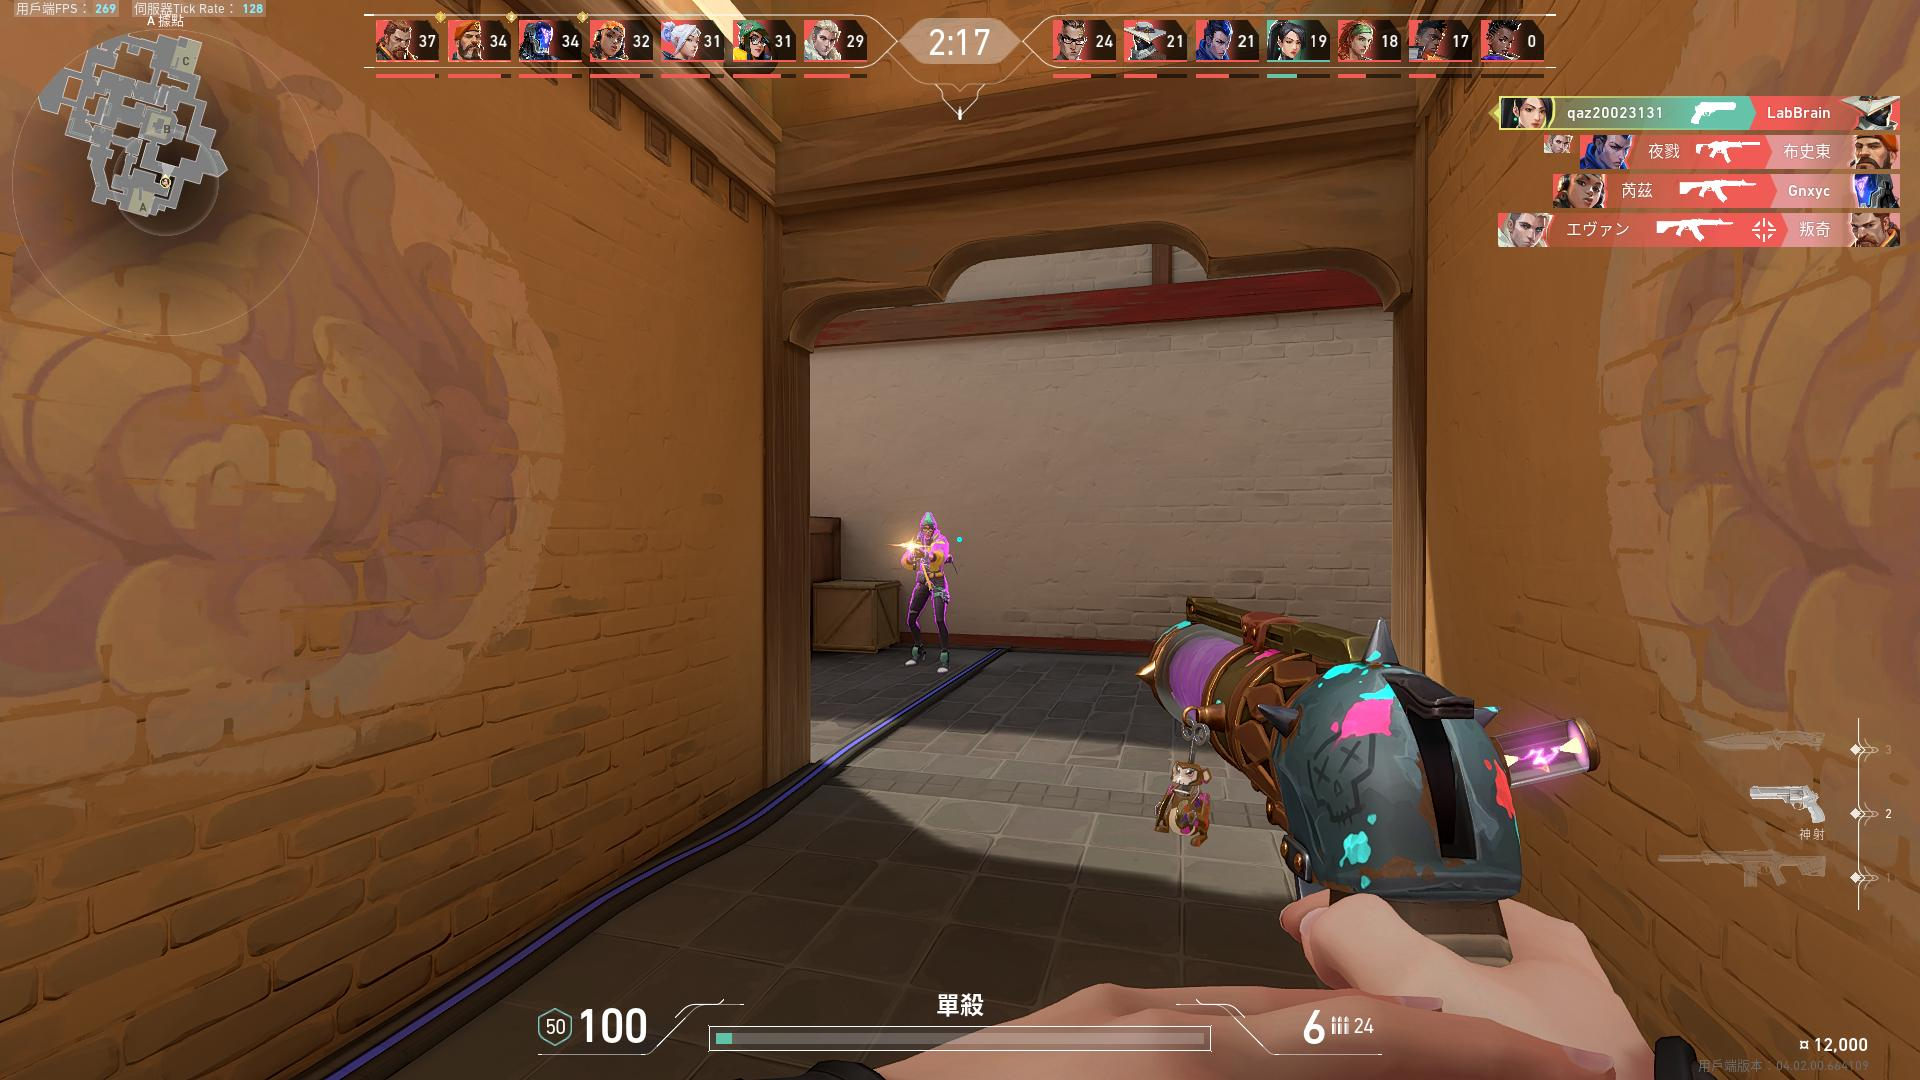enemyBody: (916, 542, 942, 582)
enemyHead: (920, 524, 934, 537)
